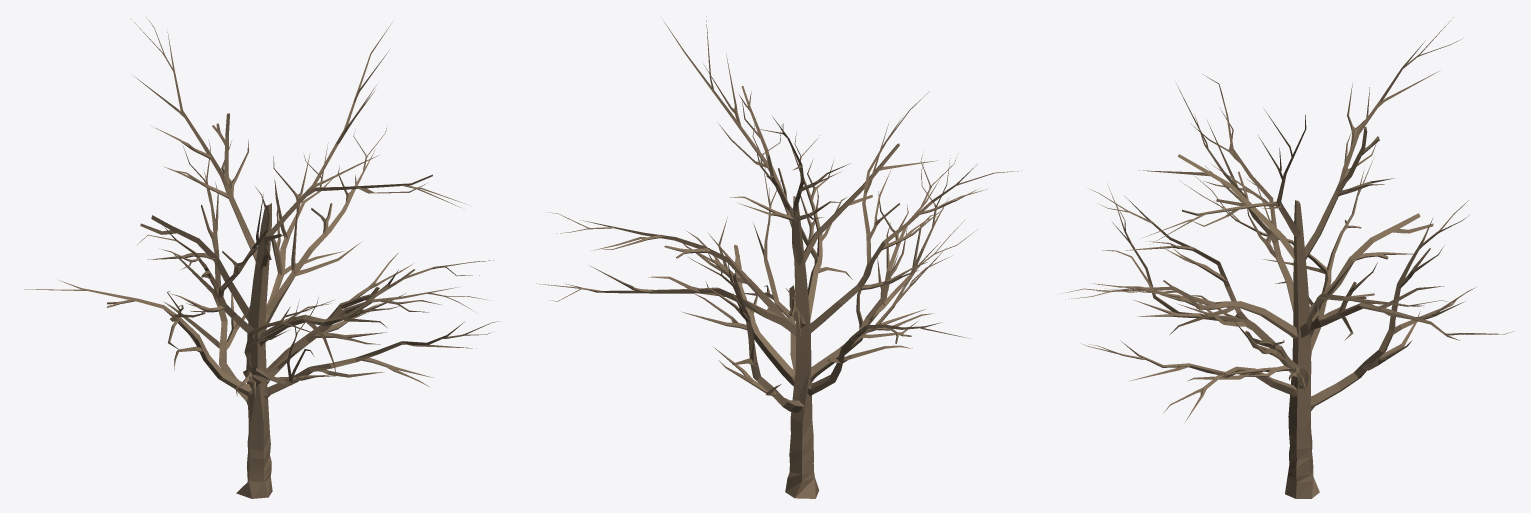
File: tree_bare_a_19.FBX
3 views of the same model, side by side, from view 1: azimuth 30°, elevation 25°; view 2: azimuth 150°, elevation 25°; view 3: azimuth 270°, elevation 25° (orthographic). The views are drawn at different scales.
Parts seen in each view (by area): view 1: tree_bare_a_19; view 2: tree_bare_a_19; view 3: tree_bare_a_19.
Part boxes in pixels (left/top/right/bottom): tree_bare_a_19: left=24, top=17, right=499, bottom=498; tree_bare_a_19: left=533, top=16, right=1022, bottom=498; tree_bare_a_19: left=1060, top=17, right=1513, bottom=498.
Bounding box in the file's own units: 8.23 × 8.61 × 7.98.
